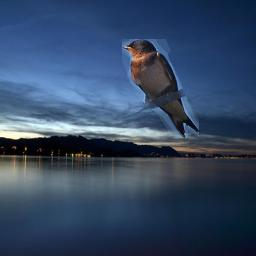Swallow: (122, 39, 199, 138)
